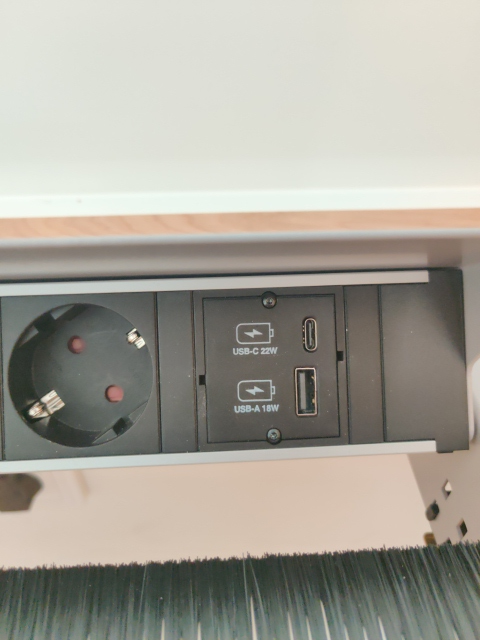USB: (293, 367, 319, 417)
USB-C: (303, 314, 319, 353)
